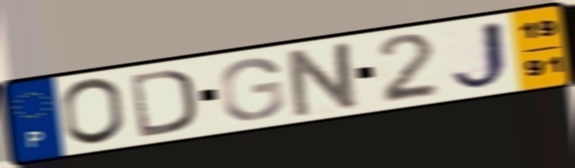2: (374, 31, 444, 105)
D: (127, 66, 199, 140)
G: (217, 56, 287, 122)
J: (446, 18, 517, 93)
N: (285, 38, 364, 120)
O: (59, 76, 129, 148)
